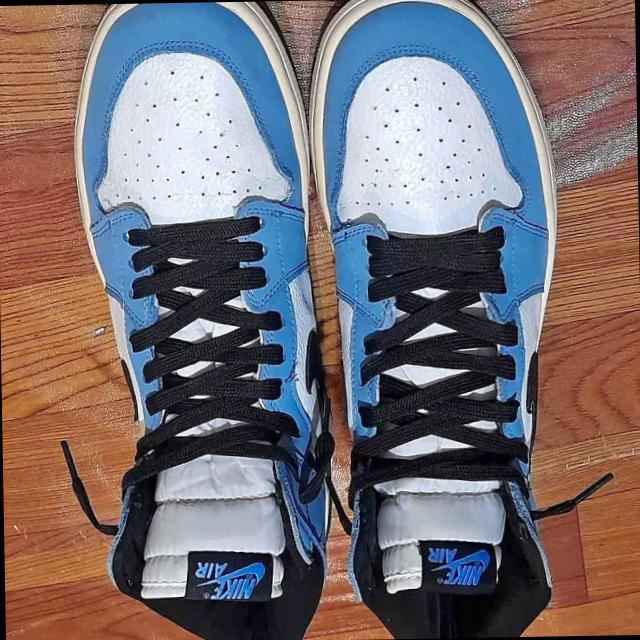nike fake jordan 1: (67, 0, 334, 640), (307, 0, 565, 640)
